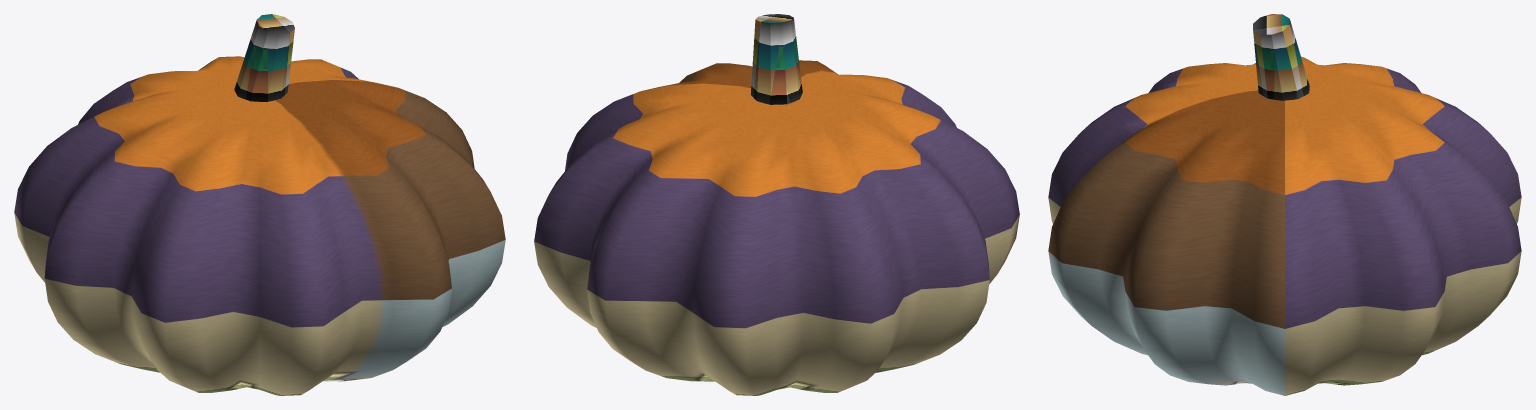
The model's file is EVHalloween_Decor_PumpkinOrange.fbx.
The picture shows the model from 3 angles, left to right: view 1: azimuth 30°, elevation 25°; view 2: azimuth 150°, elevation 25°; view 3: azimuth 270°, elevation 25°; orthographic projection.
Parts seen in each view (by area): view 1: EVHalloween_Decor_PumpkinOrange; view 2: EVHalloween_Decor_PumpkinOrange; view 3: EVHalloween_Decor_PumpkinOrange.
Part boxes in pixels (bbox=[...]): EVHalloween_Decor_PumpkinOrange: bbox=[14, 14, 505, 395]; EVHalloween_Decor_PumpkinOrange: bbox=[534, 14, 1019, 395]; EVHalloween_Decor_PumpkinOrange: bbox=[1048, 14, 1521, 395].
Bounding box in the file's own units: 33 × 25.25 × 31.49.
